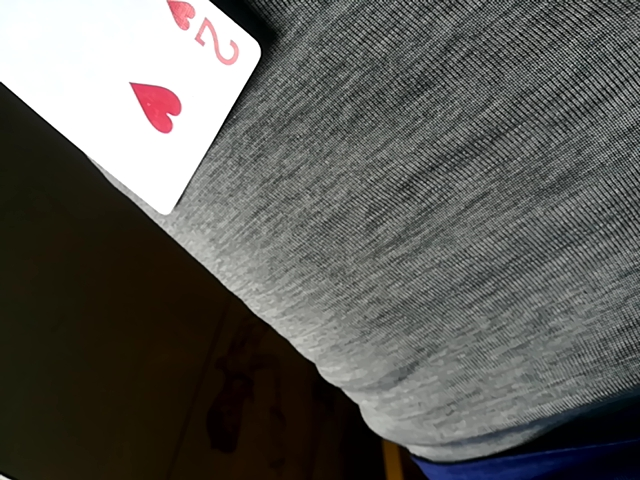hx 2: (0, 0, 267, 221)
